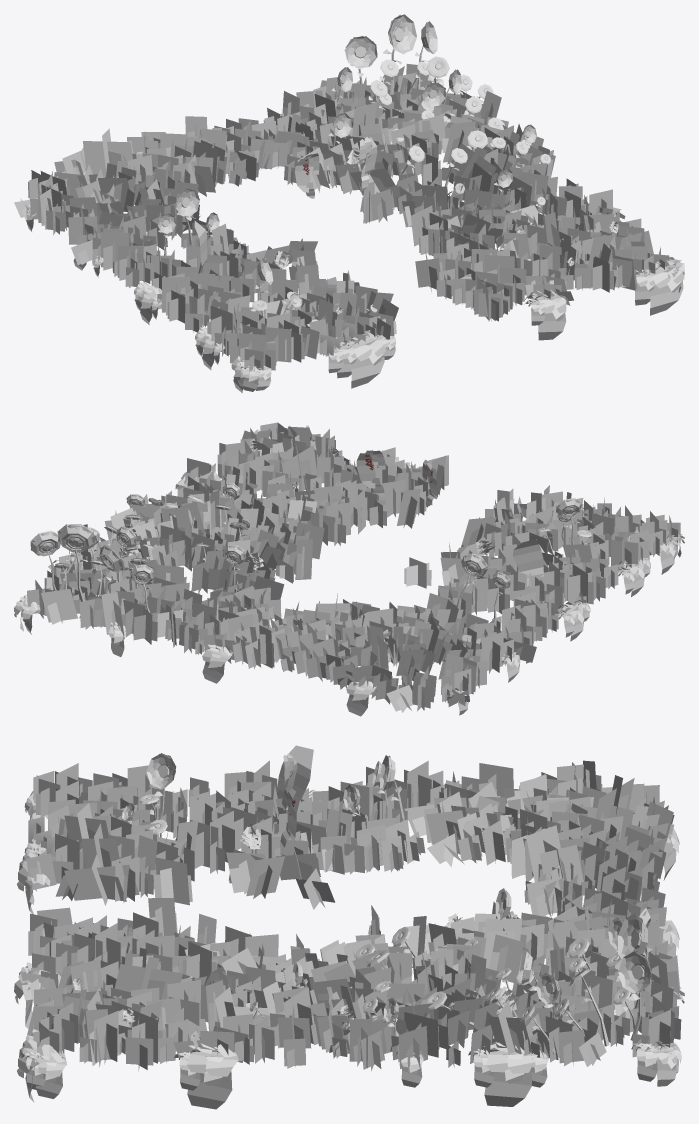
The model's file is all.fbx.
3 views of the same model, one above another, from view 1: azimuth 30°, elevation 25°; view 2: azimuth 150°, elevation 25°; view 3: azimuth 270°, elevation 25° (orthographic). The views are drawn at different scales.
Parts seen in each view (by area): view 1: grass_green, grass_yellow, Cylinder.001, ivy2.001, ivy1.001, ivy1; view 2: grass_green, grass_yellow, Cylinder.001, ivy2.001, ivy1, ivy2, ivy1.001; view 3: grass_green, grass_yellow, ivy2.001, Cylinder.001, ivy2, ivy1.
Boxes of the visible parts, x1,y1,x2,y2 form: grass_green: (28, 64, 669, 373); grass_yellow: (14, 66, 653, 359); Cylinder.001: (157, 14, 618, 328); ivy2.001: (26, 79, 684, 393); ivy1.001: (295, 153, 319, 198); ivy1: (359, 137, 377, 191); grass_green: (27, 422, 680, 711); grass_yellow: (41, 425, 651, 712); Cylinder.001: (30, 438, 591, 618); ivy2.001: (14, 429, 684, 716); ivy1: (356, 450, 385, 496); ivy2: (513, 539, 543, 576); ivy1.001: (422, 459, 437, 506); grass_green: (28, 760, 675, 1071); grass_yellow: (21, 760, 681, 1068); ivy2.001: (14, 789, 684, 1109); Cylinder.001: (72, 753, 654, 1053); ivy2: (277, 745, 313, 800); ivy1: (280, 785, 300, 847).
Bounding box in the file's own units: 7243 × 2252 × 7160.
2 materials, 1 textured.
